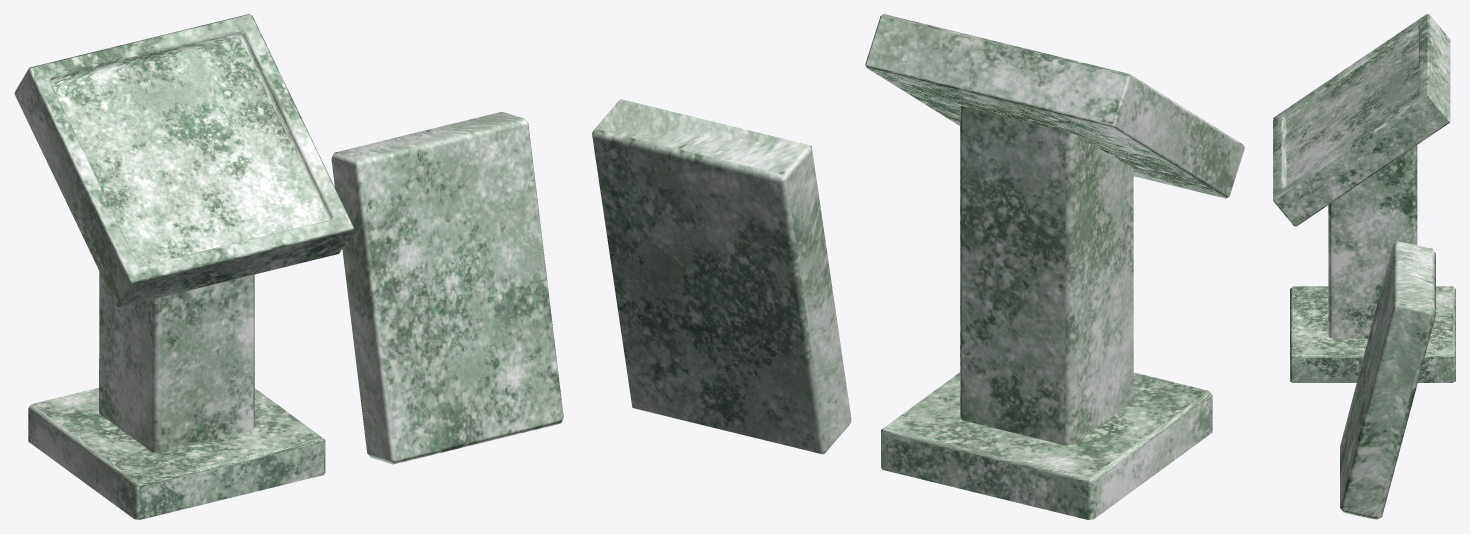
Rendered from DOOR_CTRL.fbx.
3 renders of one model, left to right at view 1: azimuth 30°, elevation 25°; view 2: azimuth 150°, elevation 25°; view 3: azimuth 270°, elevation 25°, orthographic. The views are drawn at different scales.
Visible parts, largest first — view 1: ctrl, tomb; view 2: ctrl, tomb; view 3: ctrl, tomb.
Part boxes in pixels (<box>): ctrl: <box>14,14,353,519</box>; tomb: <box>331,111,563,464</box>; ctrl: <box>865,14,1244,519</box>; tomb: <box>592,99,851,454</box>; ctrl: <box>1273,14,1455,382</box>; tomb: <box>1340,241,1435,519</box>.
Bounding box in the file's own units: 12.9 × 11.3 × 5.64.
Materials: 1 (1 with a texture image).
